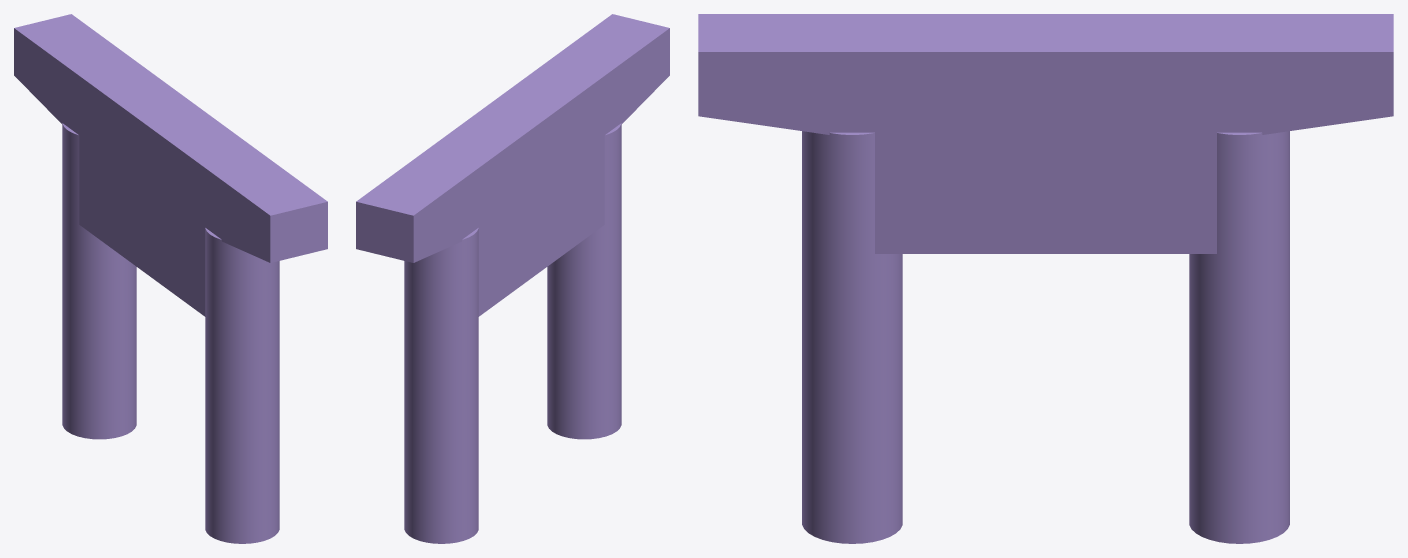
File: SM_Bridge_Support_01.fbx
3 renders of one model, left to right at view 1: azimuth 30°, elevation 25°; view 2: azimuth 150°, elevation 25°; view 3: azimuth 270°, elevation 25°, orthographic. The views are drawn at different scales.
Parts seen in each view (by area): view 1: SM_Bridge_Support_01; view 2: SM_Bridge_Support_01; view 3: SM_Bridge_Support_01.
Boxes of the visible parts, x1,y1,x2,y2 form: SM_Bridge_Support_01: (14, 14, 327, 543); SM_Bridge_Support_01: (356, 14, 669, 543); SM_Bridge_Support_01: (698, 14, 1393, 543).
Bounding box in the file's own units: 112 × 600 × 772.
